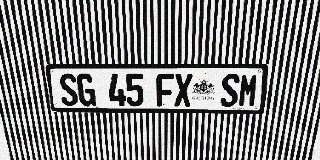4: (107, 74, 126, 106)
5: (125, 74, 144, 106)
F: (156, 74, 174, 106)
G: (76, 74, 96, 106)
M: (238, 74, 259, 107)
S: (58, 74, 79, 106), (220, 74, 240, 107)
X: (174, 74, 192, 106)
